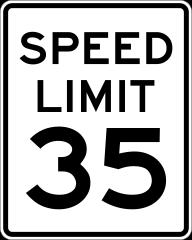Speed Limit -35-: (15, 18, 183, 225)
